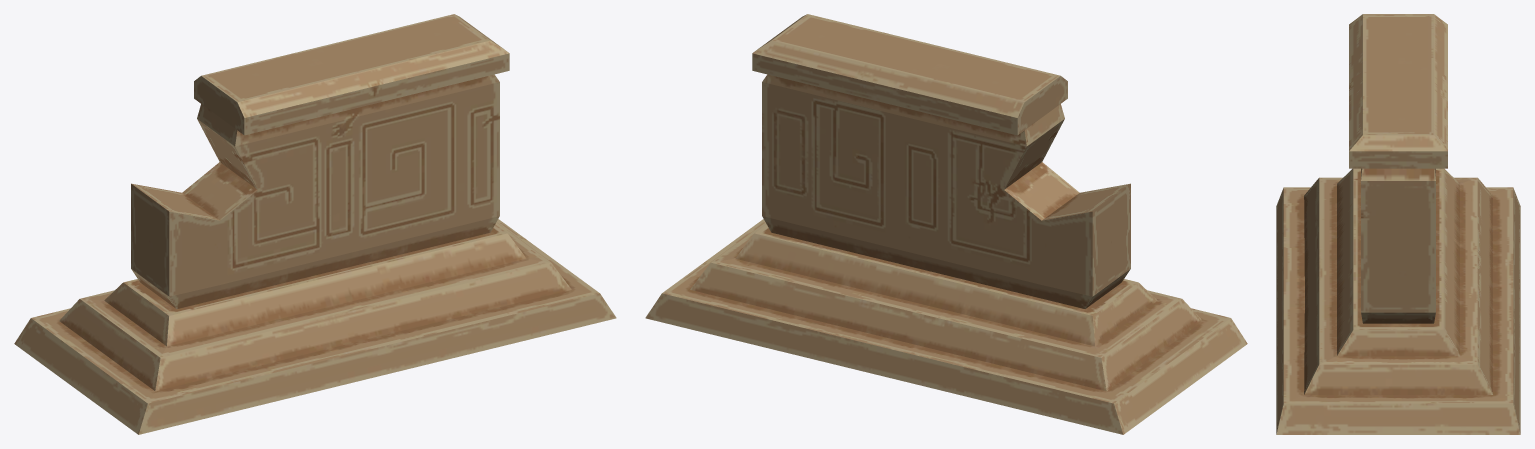
Rendered from ornamentPillarBroken.fbx.
3 renders of one model, left to right at view 1: azimuth 30°, elevation 25°; view 2: azimuth 150°, elevation 25°; view 3: azimuth 270°, elevation 25°, orthographic.
Visible parts, largest first — view 1: ornamentPillarBroken; view 2: ornamentPillarBroken; view 3: ornamentPillarBroken.
Part boxes in pixels (x1,y1,x2,y2): ornamentPillarBroken: (14, 14, 616, 434); ornamentPillarBroken: (645, 14, 1247, 434); ornamentPillarBroken: (1276, 14, 1520, 434).
Bounding box in the file's own units: 5.2 × 2.76 × 2.34.
1 material, 1 textured.
